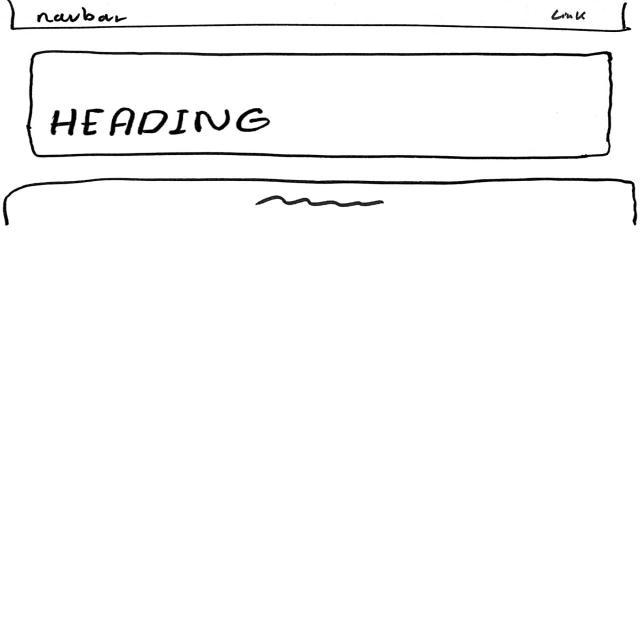container: (24, 44, 617, 164), (8, 0, 632, 31)
label: (44, 102, 276, 142), (27, 4, 136, 22), (543, 6, 599, 24)
text: (251, 190, 390, 213)
